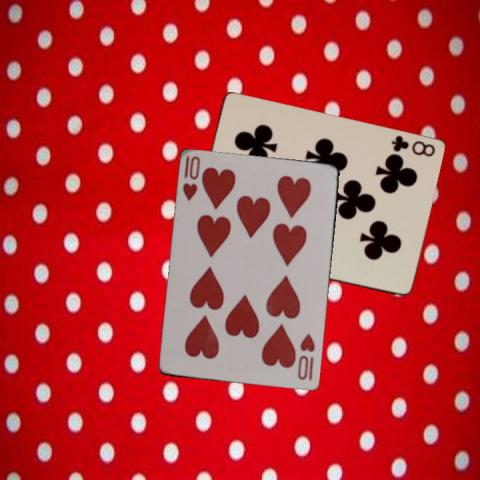10h: (294, 330, 316, 382), (180, 153, 202, 203)
8c: (388, 132, 436, 159)
